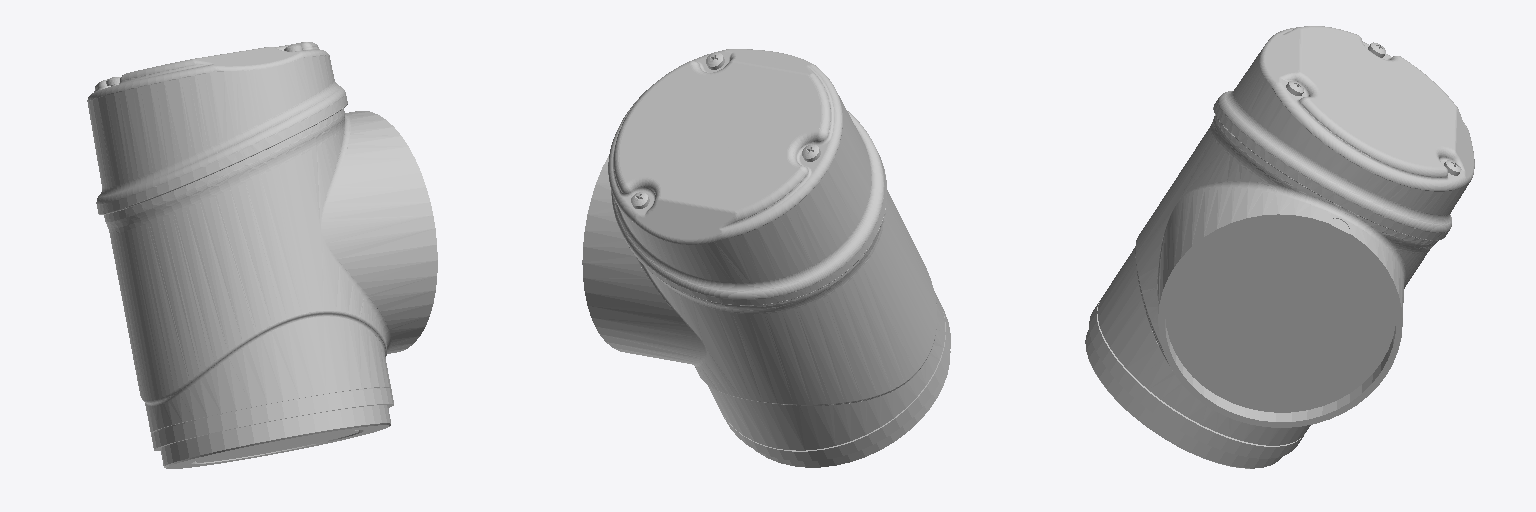
The model's file is AUBOMuñeca2.obj.
3 renders of one model, left to right at view 1: azimuth 30°, elevation 25°; view 2: azimuth 150°, elevation 25°; view 3: azimuth 270°, elevation 25°, orthographic.
Visible parts, largest first — view 1: uploads_files_[number redacted]_i3-V2.006; view 2: uploads_files_[number redacted]_i3-V2.006; view 3: uploads_files_[number redacted]_i3-V2.006.
Boxes of the visible parts, <box> form: uploads_files_[number redacted]_i3-V2.006: <box>87,42,437,468</box>; uploads_files_[number redacted]_i3-V2.006: <box>582,49,950,467</box>; uploads_files_[number redacted]_i3-V2.006: <box>1085,26,1474,468</box>.
Size of the model in its own units: 45.98 by 68.31 by 59.65.